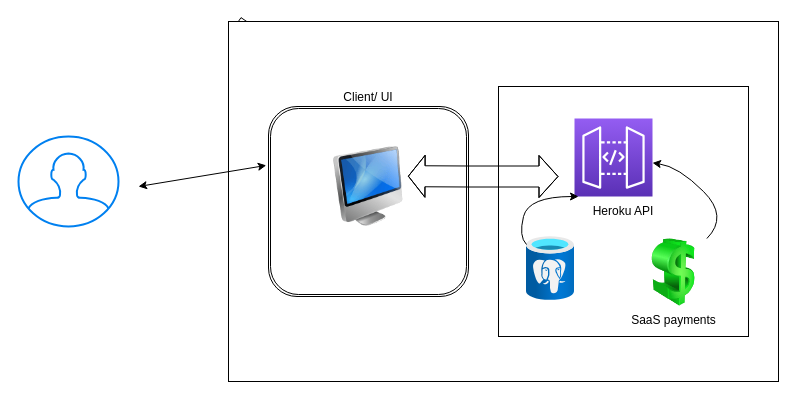
Image size: 796x399. Some labels were removed from this diagram. Each missing label, with the centre of its shape:
"Postgres Database" belongs at [550,268].
"User" belongs at [68,181].
